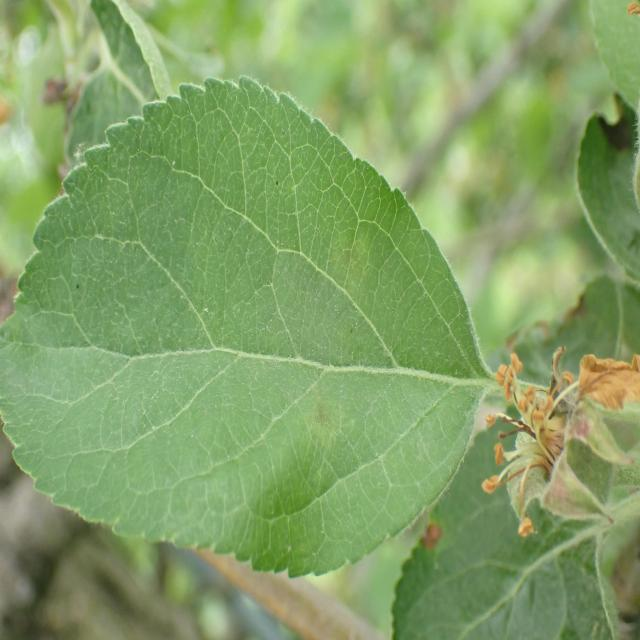scab: (202, 133, 434, 581)
